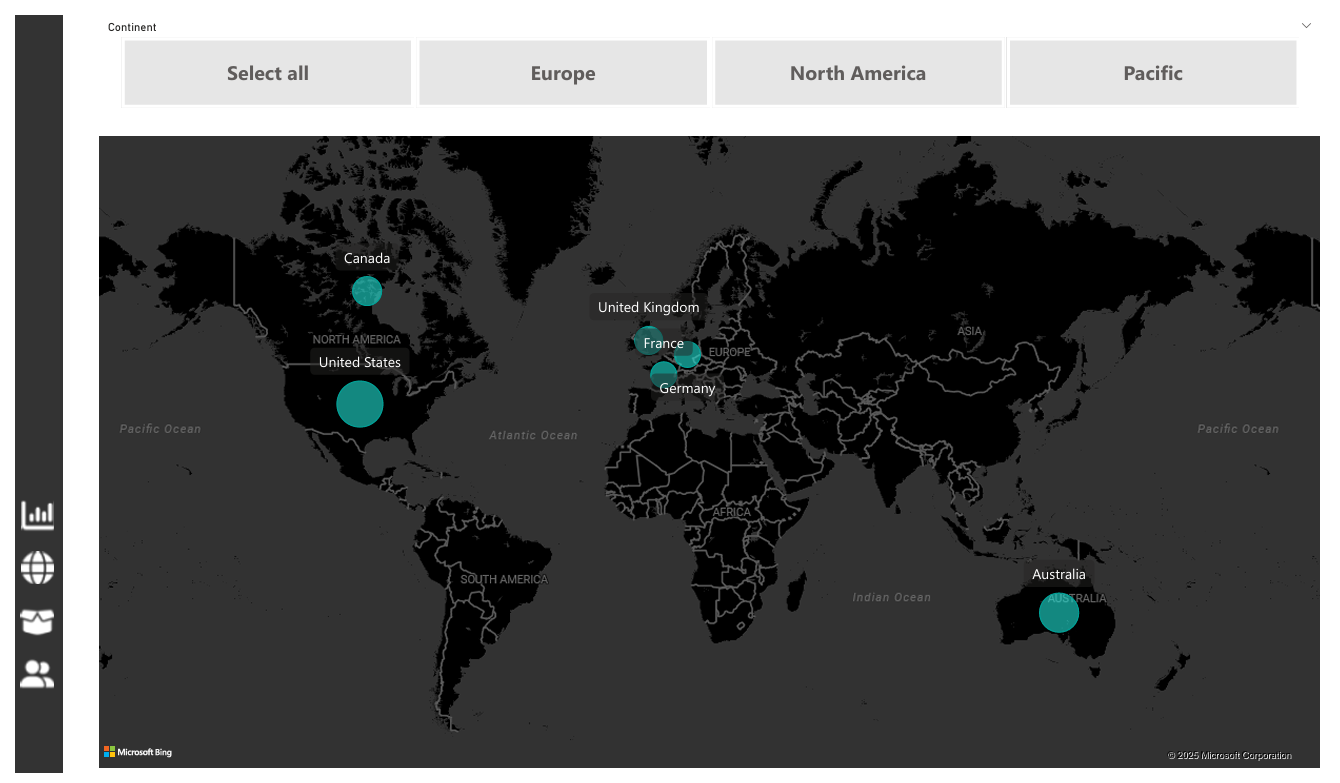

This screenshot's page, from the dashboard's own definition file:
{"tool":"powerbi","page":{"name":"Map","canvas":[1280,720],"ordinal":1},"visuals":[{"type":"shape","box":[0,0,45,720],"z":0},{"type":"actionButton","box":[2.4,456.1,45.2,39.1],"z":0,"group":"g1"},{"type":"map","fields":{"Category":["Territory Lookup.Country"],"Size":["Measure Table.Total Orders"]},"box":[75,110,1168.8,610],"z":1000},{"type":"actionButton","box":[1.2,606.5,45.2,39.1],"z":1000,"group":"g1"},{"type":"slicer","fields":{"Values":["Territory Lookup.Continent"]},"box":[75,0,1168.8,95],"z":2000},{"type":"actionButton","box":[1.2,557.6,45.2,39.1],"z":2000,"group":"g1"},{"type":"group","id":"g1","title":"Navigation Buttons","box":[1.2,456.1,46.5,189.5],"z":3000},{"type":"actionButton","box":[2.4,506.2,45.2,39.1],"z":3000,"group":"g1"}]}

Visuals, with their boxes on the page's 1280x720 design canvas (x1, y1, x2, y2). These are canvas units, not pixel positions in the 1340x783 screenshot, which may show the page scaled, cropped or inside an application window:
shape: x1=0 y1=0 x2=45 y2=720
actionButton: x1=2 y1=456 x2=48 y2=495
map - Territory Lookup.Country x Measure Table.Total Orders: x1=75 y1=110 x2=1244 y2=720
actionButton: x1=1 y1=606 x2=46 y2=646
slicer - Territory Lookup.Continent: x1=75 y1=0 x2=1244 y2=95
actionButton: x1=1 y1=558 x2=46 y2=597
"Navigation Buttons" group: x1=1 y1=456 x2=48 y2=646
actionButton: x1=2 y1=506 x2=48 y2=545
